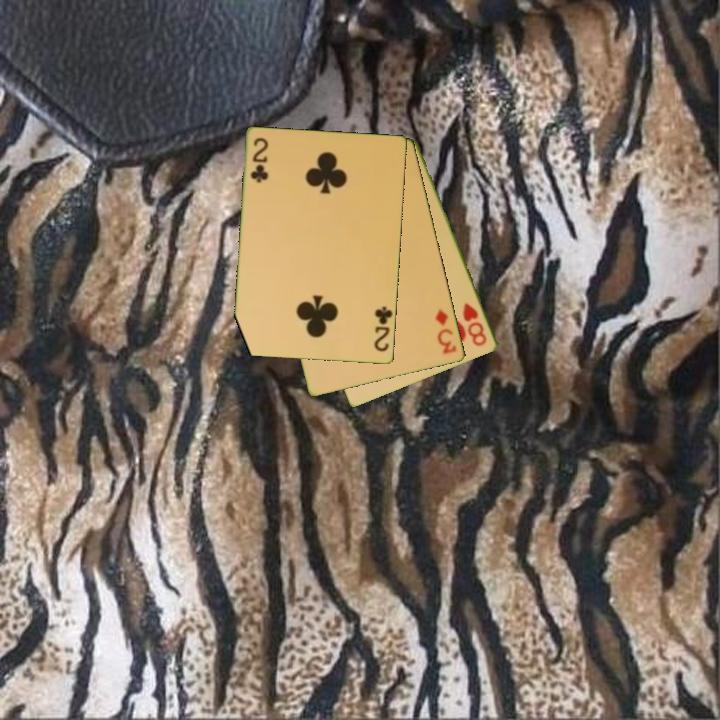2c: (371, 303, 395, 355), (247, 135, 271, 186)
3d: (432, 306, 460, 357)
8h: (459, 300, 490, 349)
